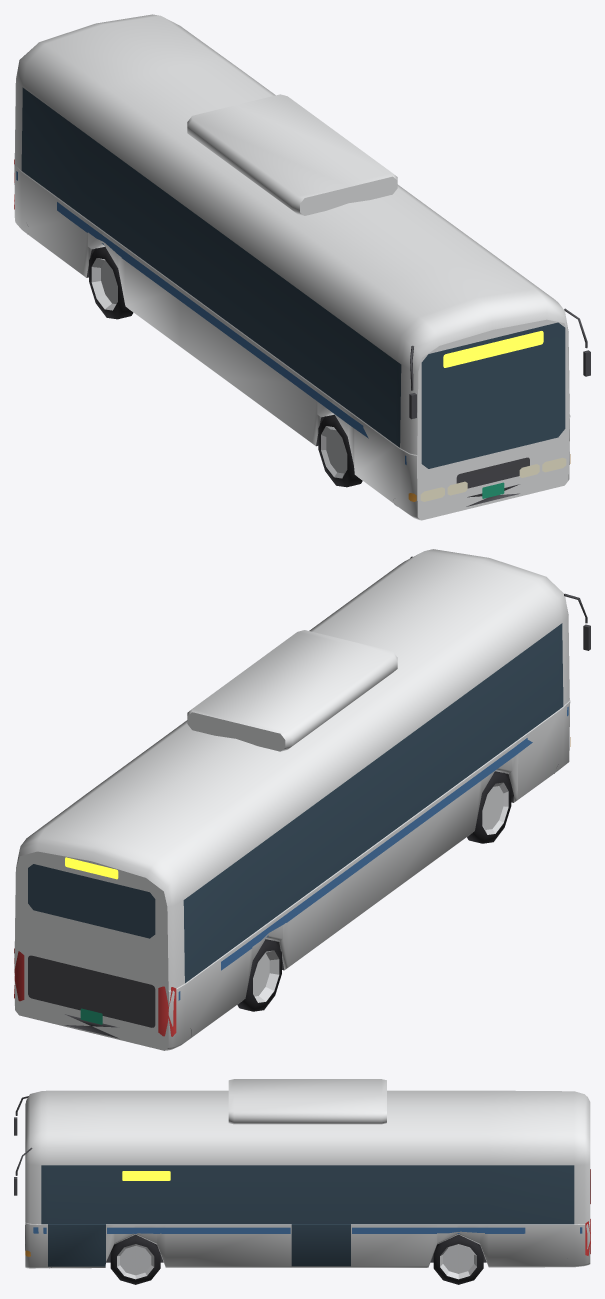
The picture shows the model from 3 angles, top to bottom: view 1: azimuth 30°, elevation 25°; view 2: azimuth 150°, elevation 25°; view 3: azimuth 270°, elevation 25°; orthographic projection. The views are drawn at different scales.
Parts seen in each view (by area): view 1: 12_0; view 2: 12_0; view 3: 12_0.
Part boxes in pixels (x1,y1,x2,y2): 12_0: (14, 14, 590, 520); 12_0: (14, 549, 590, 1050); 12_0: (14, 1079, 590, 1284).
Size of the model in its own units: 2.71 by 3.33 by 10.72.
